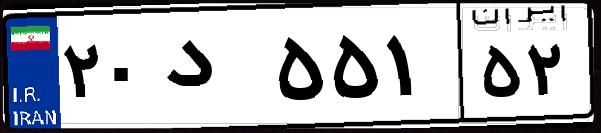0: (110, 28, 158, 98)
1: (385, 28, 445, 110)
2: (57, 26, 110, 100), (525, 38, 570, 115)
5: (270, 28, 330, 110), (330, 28, 385, 110), (475, 38, 525, 113)
د: (158, 20, 270, 120)
